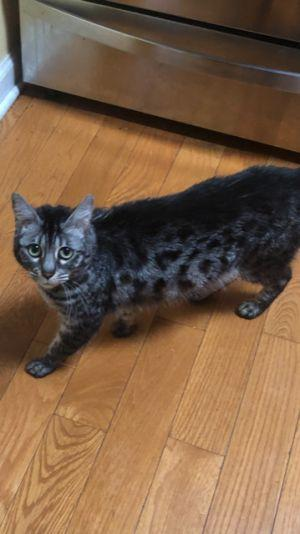bengal: (6, 186, 104, 300)
